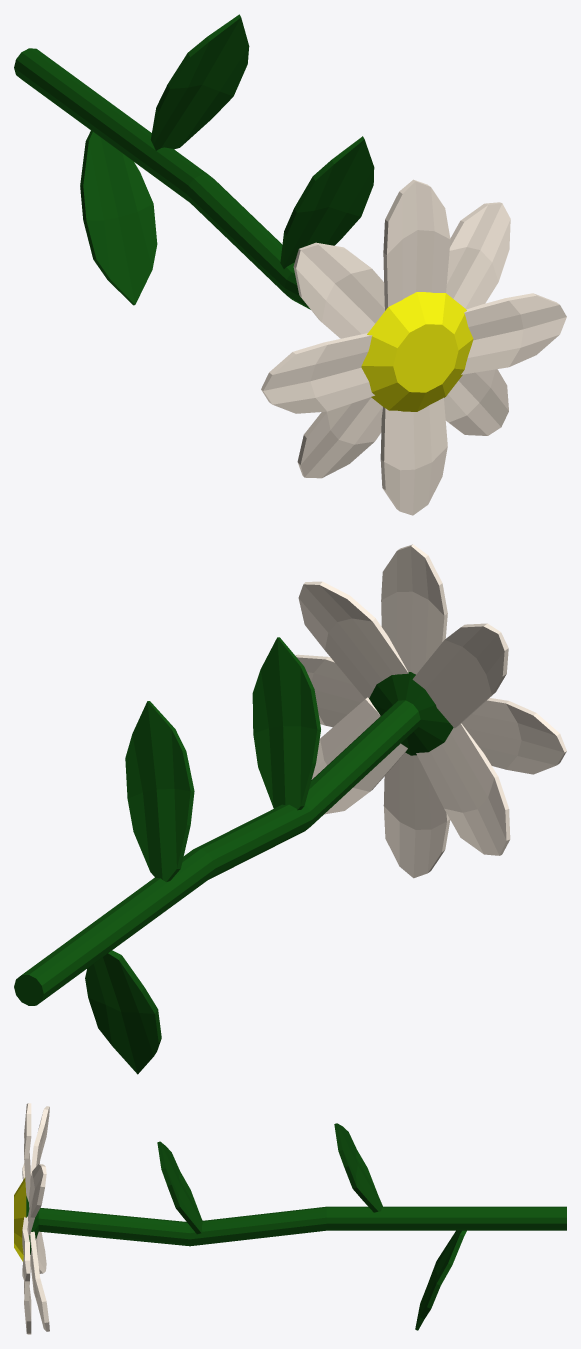
File: Flower1.1.obj
3 views of the same model, one above another, from view 1: azimuth 30°, elevation 25°; view 2: azimuth 150°, elevation 25°; view 3: azimuth 270°, elevation 25° (orthographic). The views are drawn at different scales.
Visible parts, largest first — view 1: Flower1.1; view 2: Flower1.1; view 3: Flower1.1.
Boxes of the visible parts, x1,y1,x2,y2 form: Flower1.1: (14, 14, 566, 515); Flower1.1: (14, 544, 566, 1074); Flower1.1: (14, 1103, 566, 1334).
Size of the model in its own units: 0.146 by 0.1533 by 0.3304.
